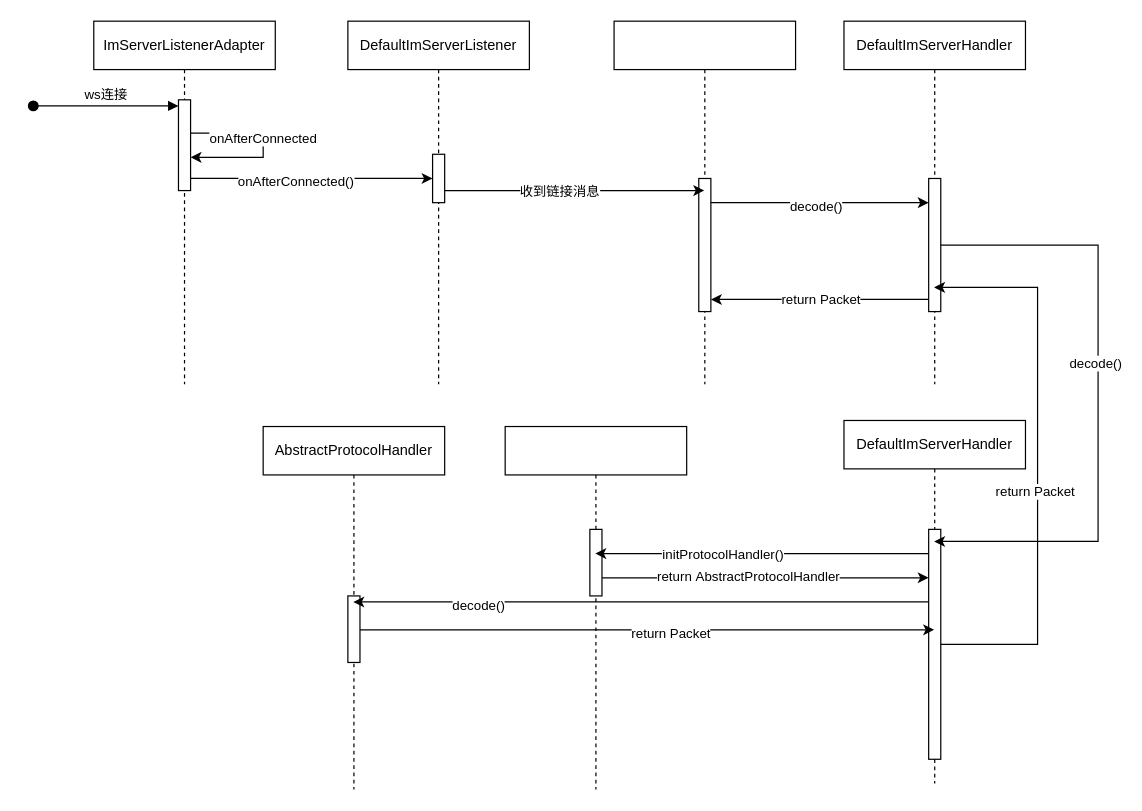
This 1142x811 diagram has some shape labels left out. The centre of each missing label's shape, as x and y in pixels:
ImServerHandlerAdapter: pixel 704 202
ProtocolManager: pixel 595 607
